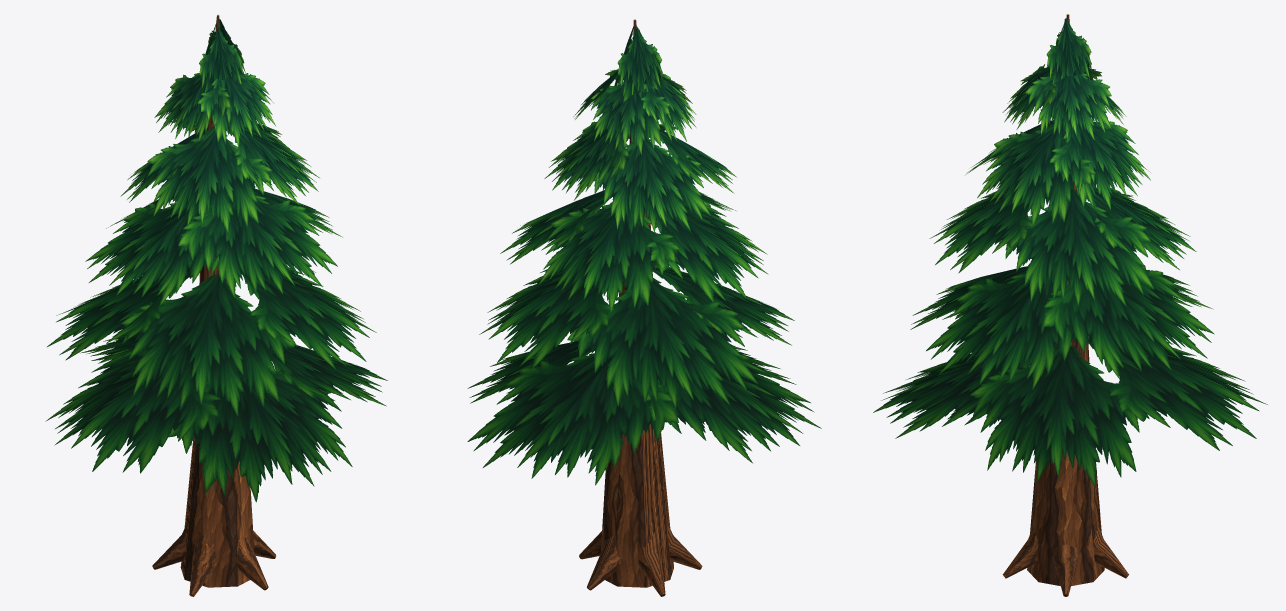
3 renders of one model, left to right at view 1: azimuth 30°, elevation 25°; view 2: azimuth 150°, elevation 25°; view 3: azimuth 270°, elevation 25°, orthographic.
Parts seen in each view (by area): view 1: Tapered harvest trunk; view 2: Tapered harvest trunk; view 3: Tapered harvest trunk.
Boxes of the visible parts, <box> form: Tapered harvest trunk: <box>45,14,387,596</box>; Tapered harvest trunk: <box>467,19,821,596</box>; Tapered harvest trunk: <box>873,14,1267,596</box>.
Bounding box in the file's own units: 7.57 × 12.32 × 8.07.
Materials: 3 (2 with a texture image).
